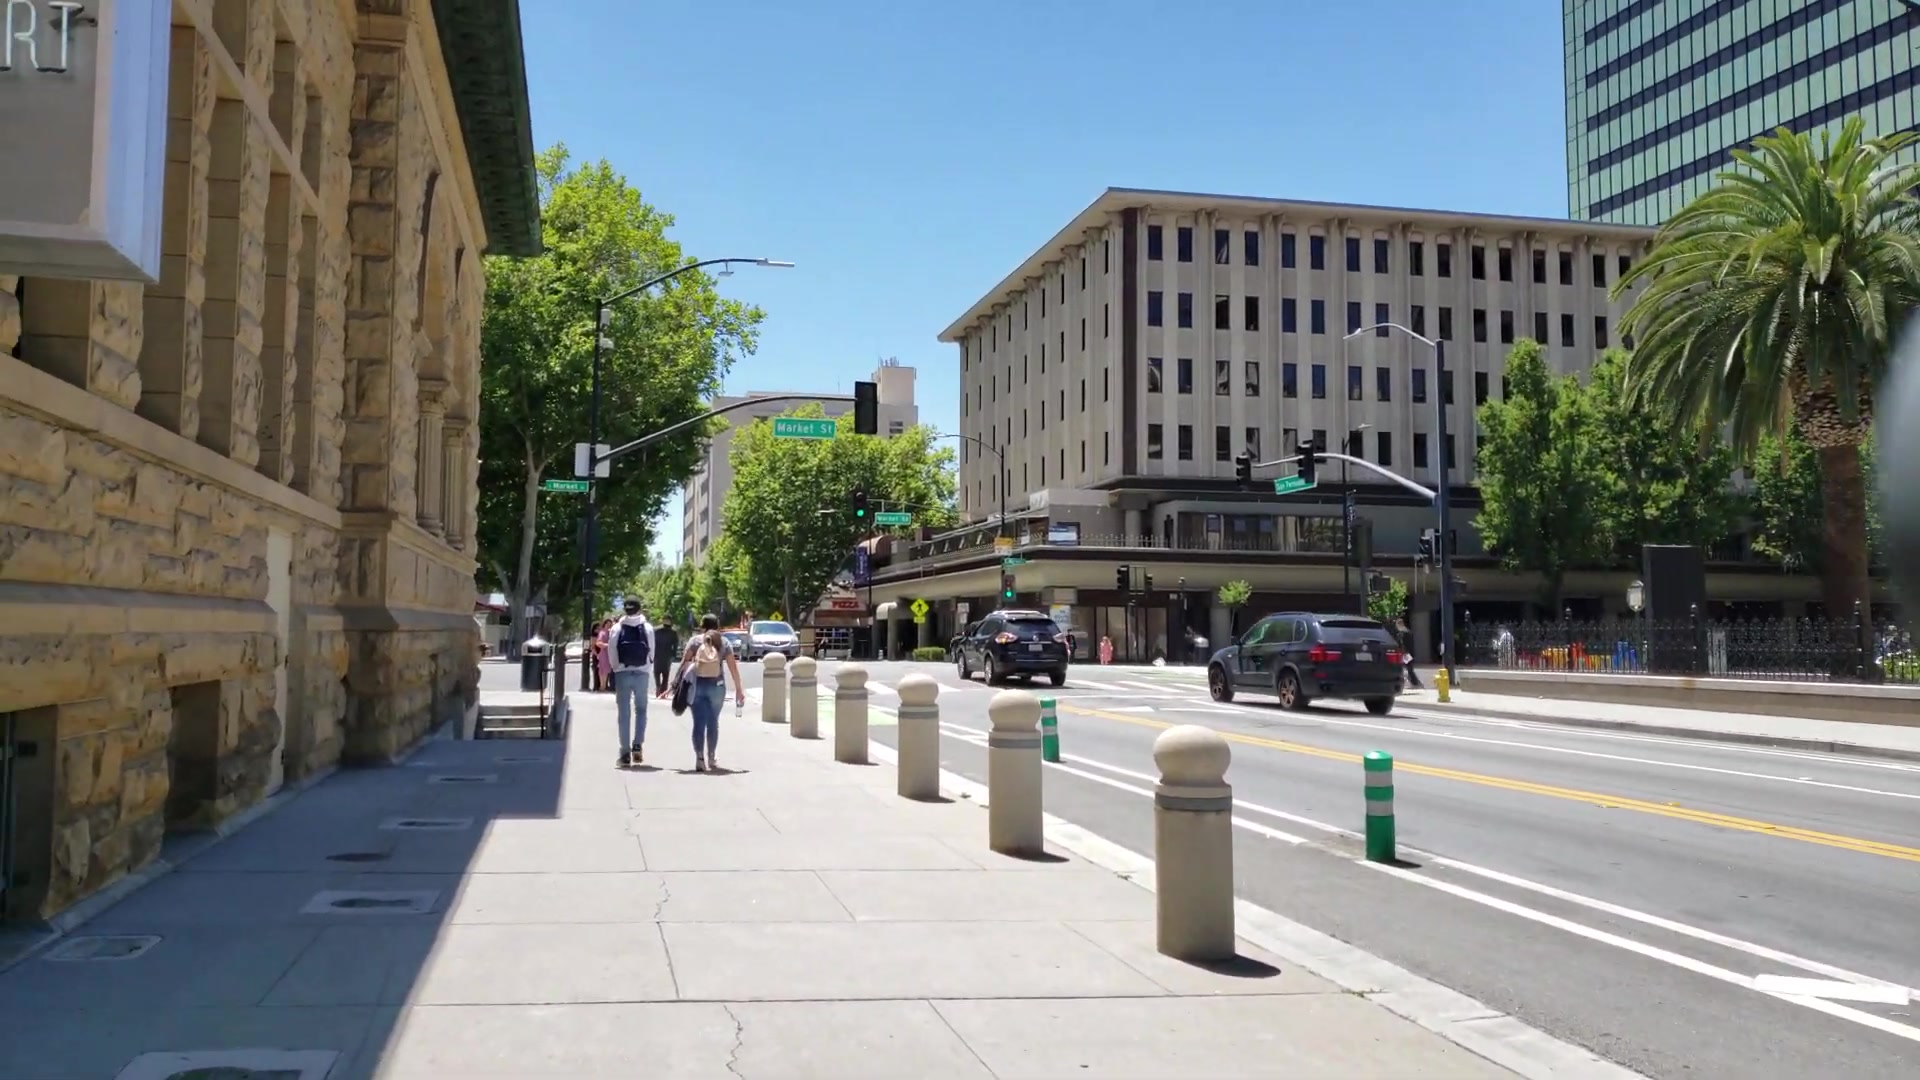vehicle: (1211, 611, 1404, 711), (959, 611, 1063, 684), (749, 624, 802, 665)
